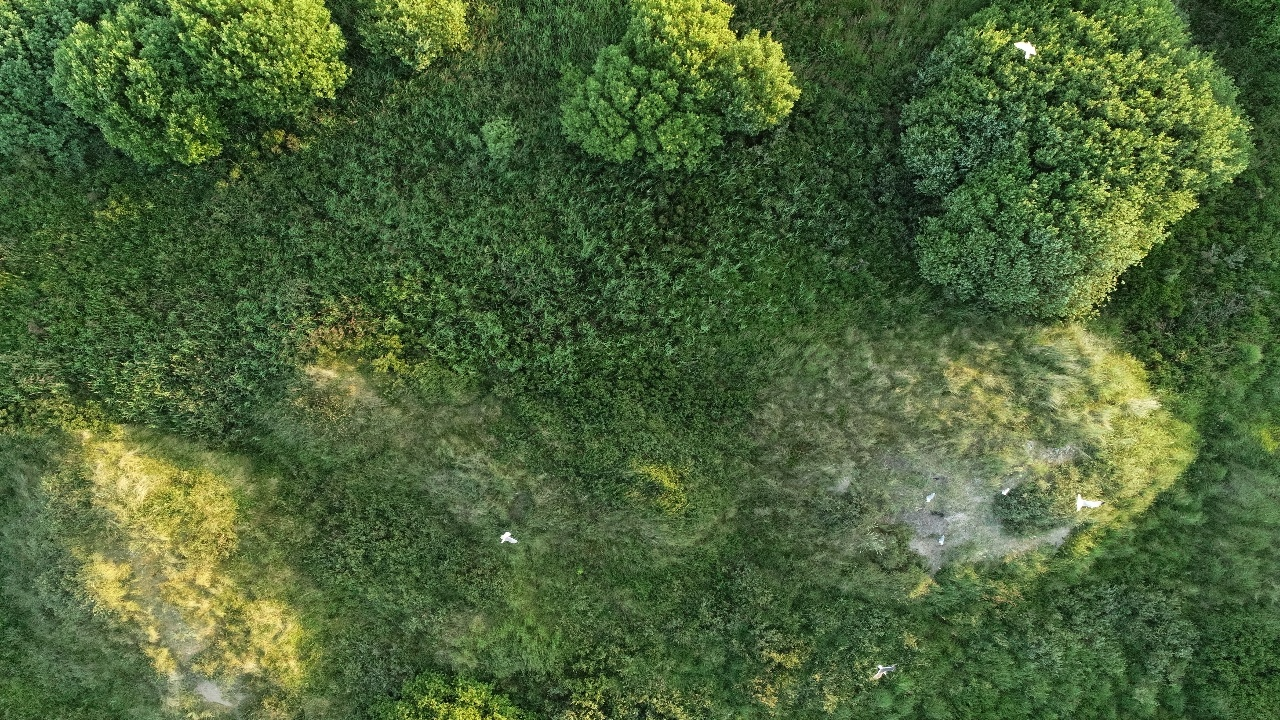Bird: (488, 523, 523, 553), (865, 656, 900, 686), (1071, 487, 1106, 517), (1007, 36, 1042, 64), (917, 483, 945, 508), (928, 525, 956, 550), (993, 476, 1021, 501)
